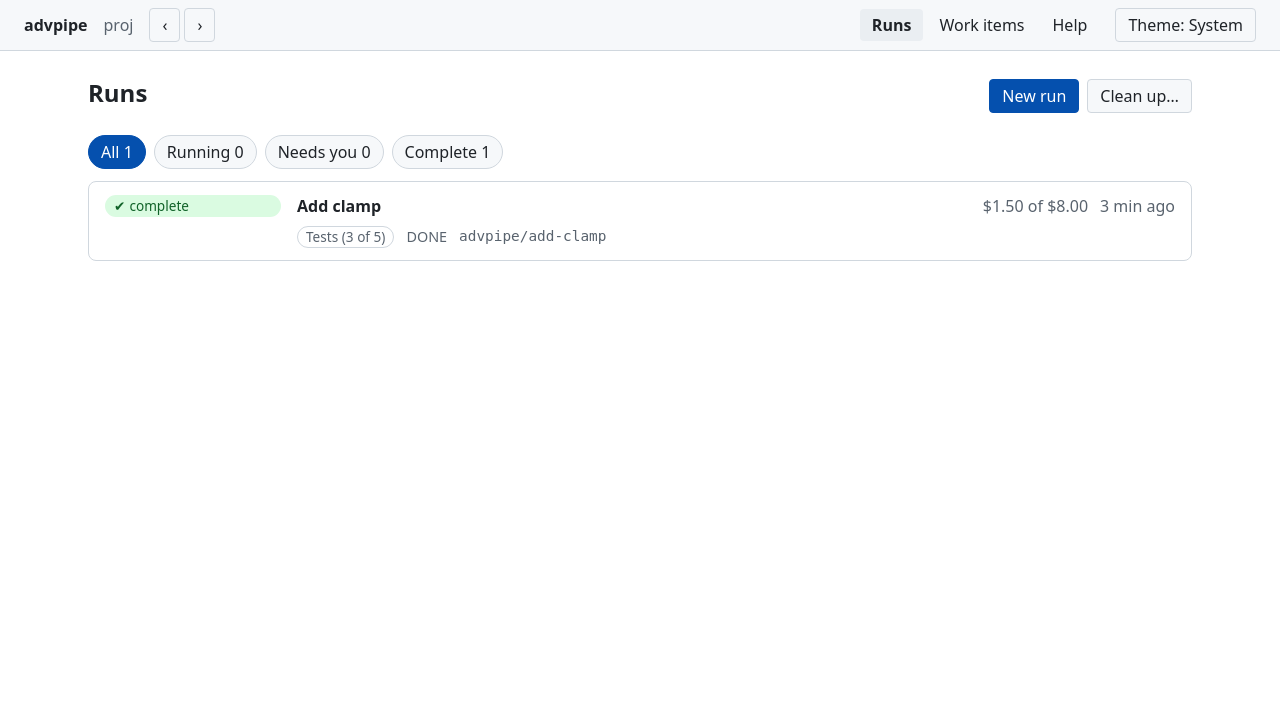
the decision panel › disables the fix when every pass is used, and says so
This screenshot has width=1280, height=720.
Click the link that starts with "complete" at (193, 206), box [89,182,1191,260]
(page scrolled)
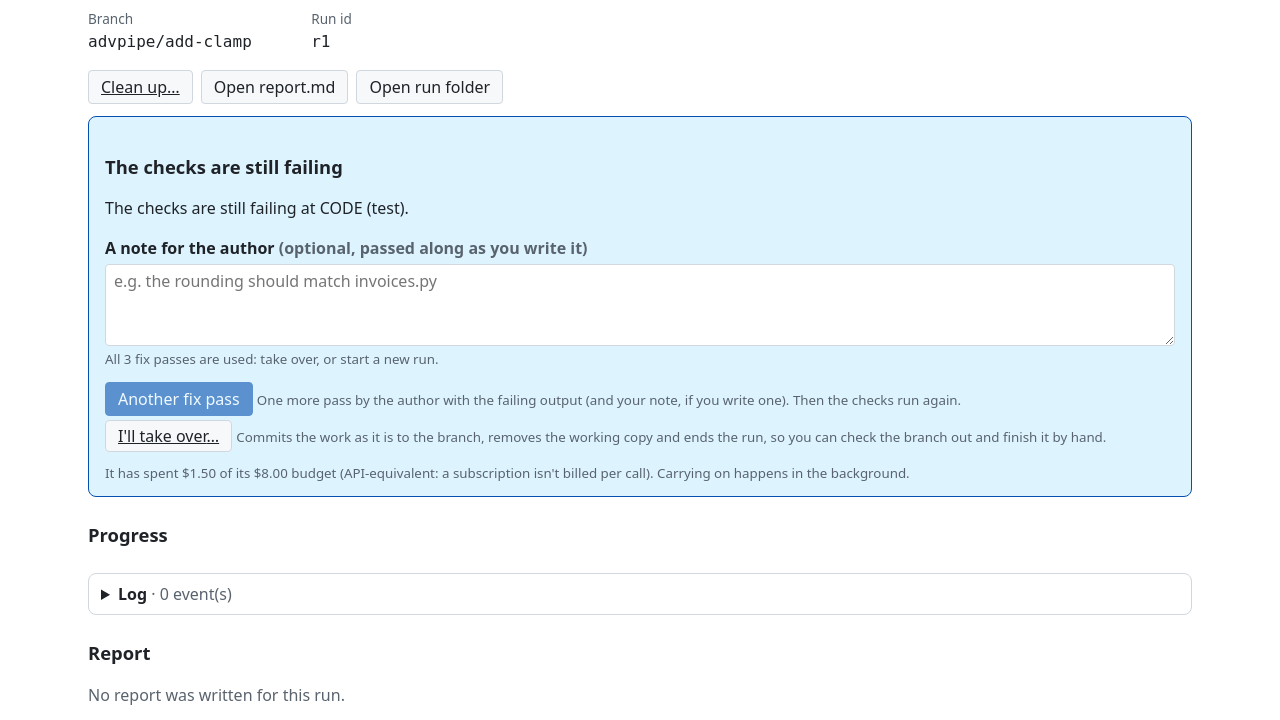
Expected: the button "Another fix pass" is disabled, [105,382,253,416]
Expected: the text "All 3 fix passes are used: take over, or start a new run." is shown, [105,350,439,368]
